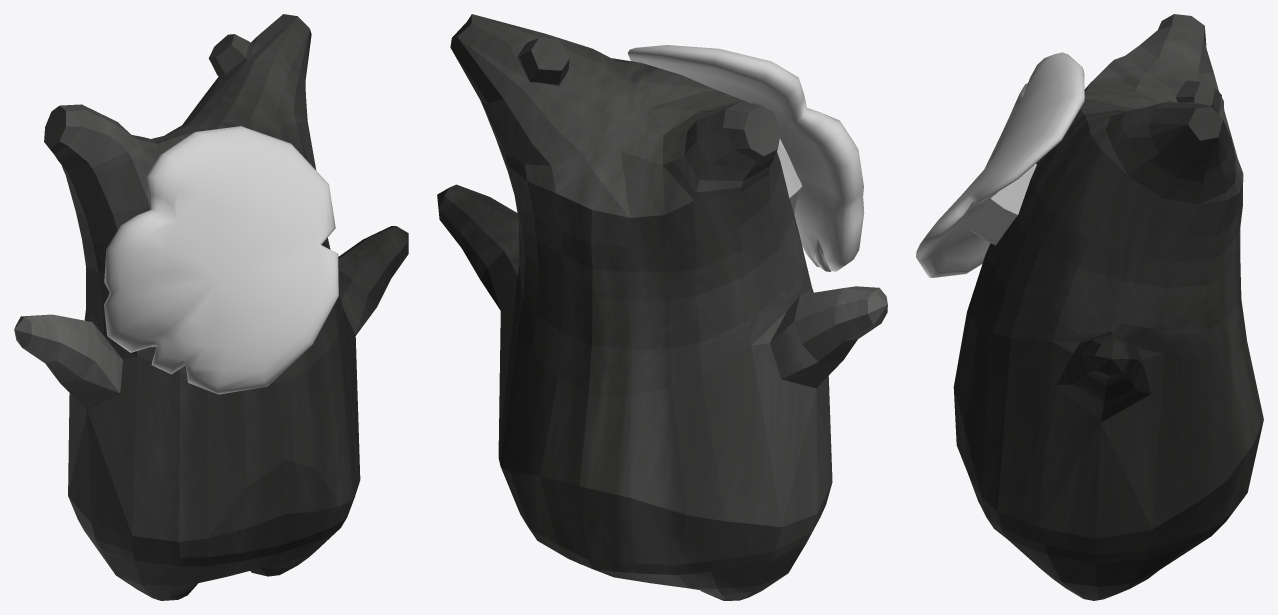
The model's file is frame_0028.obj.
3 views of the same model, side by side, from view 1: azimuth 30°, elevation 25°; view 2: azimuth 150°, elevation 25°; view 3: azimuth 270°, elevation 25° (orthographic). The views are drawn at different scales.
Visible parts, largest first — view 1: korok, leaf; view 2: korok, leaf, nose; view 3: korok, leaf, nose.
Part boxes in pixels (<box>): korok: <box>14,14,408,600</box>; leaf: <box>104,126,338,394</box>; korok: <box>437,14,887,600</box>; leaf: <box>627,45,864,271</box>; nose: <box>777,138,802,214</box>; korok: <box>953,14,1263,600</box>; leaf: <box>916,52,1084,277</box>; nose: <box>967,163,1036,245</box>.
Size of the model in its own units: 1.79 by 2.18 by 1.3.
